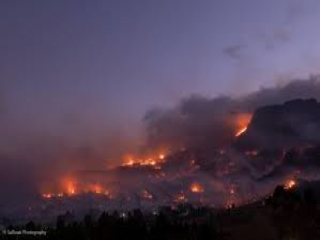fire: (41, 180, 107, 199), (123, 155, 178, 172), (231, 114, 250, 140), (189, 183, 203, 194), (286, 180, 296, 189)
smoke: (144, 72, 229, 150)
